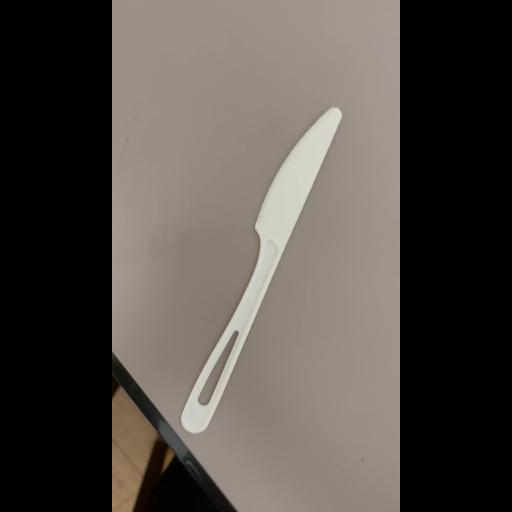utensil: (175, 108, 347, 434)
